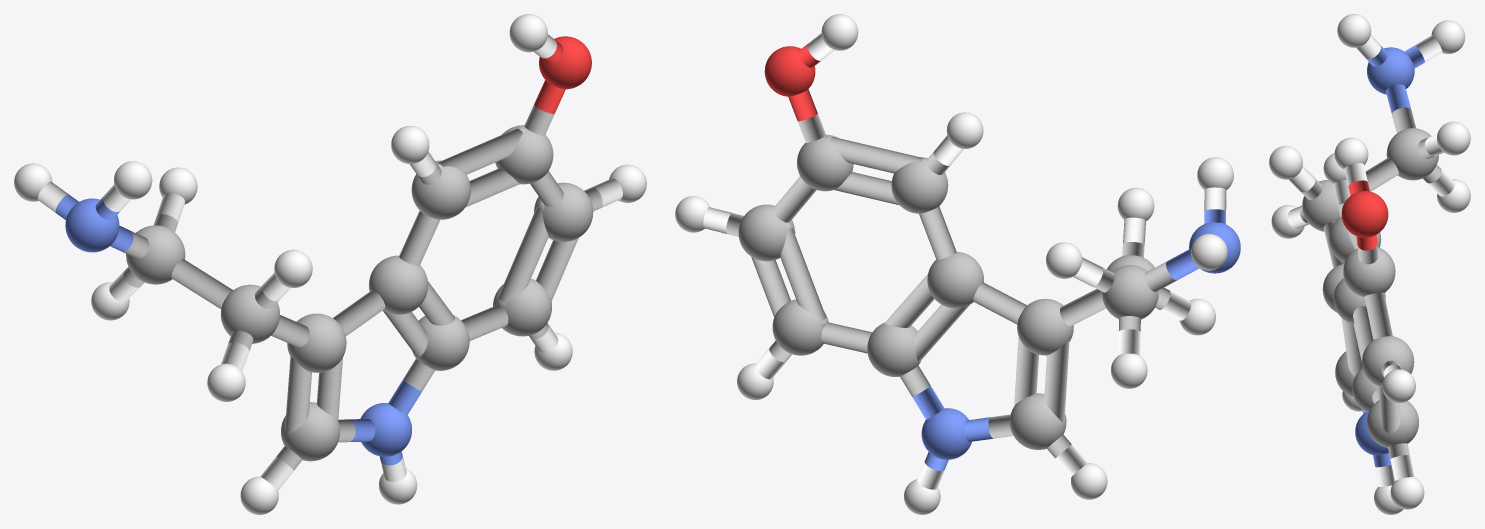
The model's file is serotonin_hormone_molecule.glb.
3 views of the same model, side by side, from view 1: azimuth 30°, elevation 25°; view 2: azimuth 150°, elevation 25°; view 3: azimuth 270°, elevation 25° (orthographic). The views are drawn at different scales.
Visible parts, largest first — view 1: Object_6, Object_5, Object_9, Object_8, Object_2, Object_7; view 2: Object_6, Object_5, Object_9, Object_8, Object_2, Object_7; view 3: Object_6, Object_9, Object_5, Object_8, Object_2, Object_7.
Boxes of the visible parts, x1,y1,x2,y2 form: Object_6: (121, 104, 593, 442); Object_5: (123, 128, 602, 470); Object_9: (37, 34, 622, 514); Object_8: (14, 14, 646, 370); Object_2: (55, 194, 421, 465); Object_7: (534, 36, 591, 113); Object_6: (738, 114, 1176, 438); Object_5: (726, 136, 1170, 458); Object_9: (703, 33, 1226, 514); Object_8: (675, 14, 1233, 399); Object_2: (912, 209, 1240, 470); Object_7: (764, 44, 820, 121); Object_6: (1323, 107, 1418, 458); Object_9: (1269, 35, 1470, 514); Object_5: (1300, 128, 1441, 412); Object_8: (1323, 14, 1465, 509); Object_2: (1355, 45, 1424, 467); Object_7: (1341, 180, 1388, 250).
Bounding box in the file's own units: 9.13 × 6.94 × 3.01.
